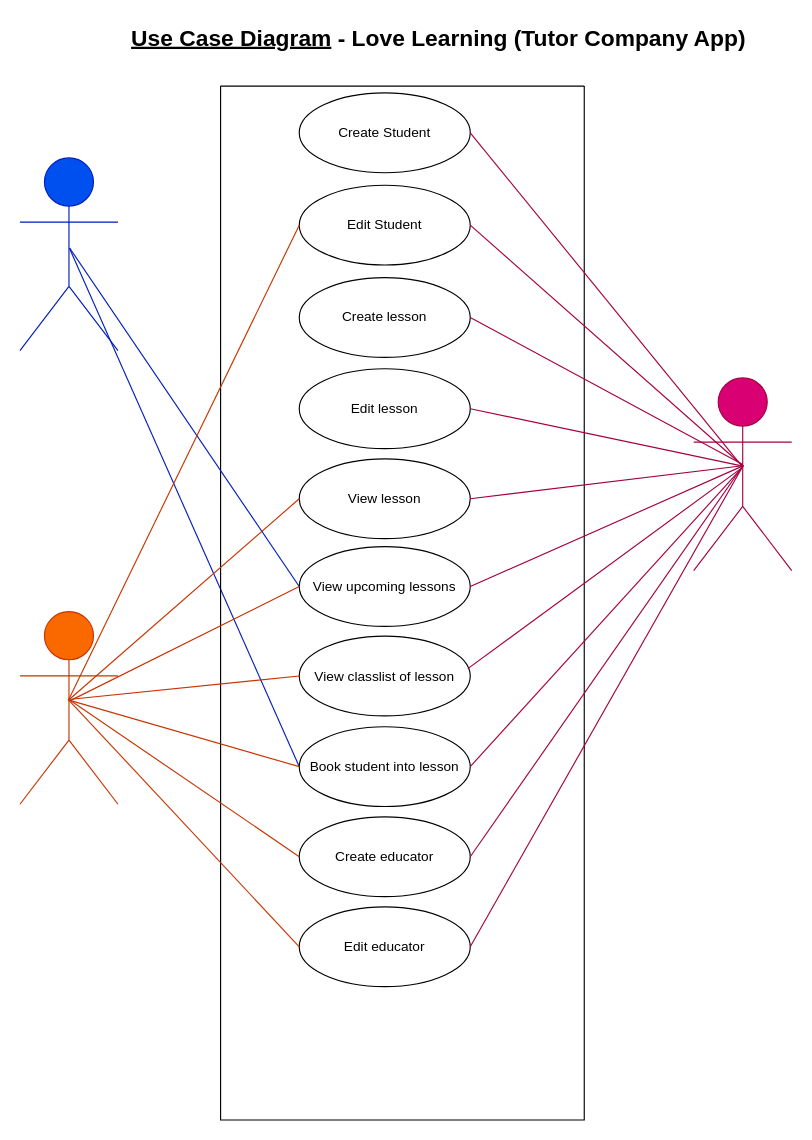
This 812x1140 diagram has some shape labels left out. Here are the shapes that lost their labels. From the top down, the centre of each, then its label:
At [68,254]: "Student".
At [742,474]: "Tutor Company".
At [68,707]: "Educator".
